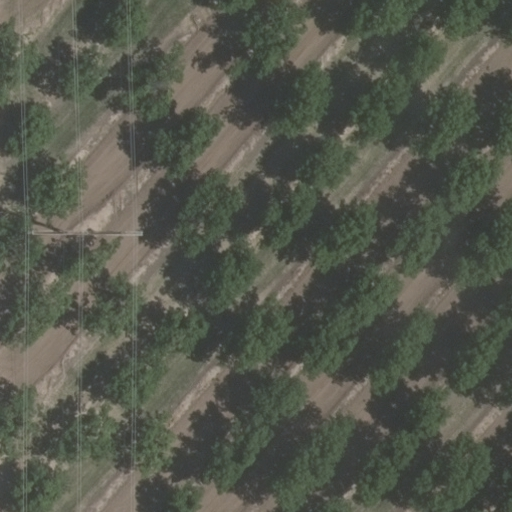TT: (16, 223, 151, 246)
